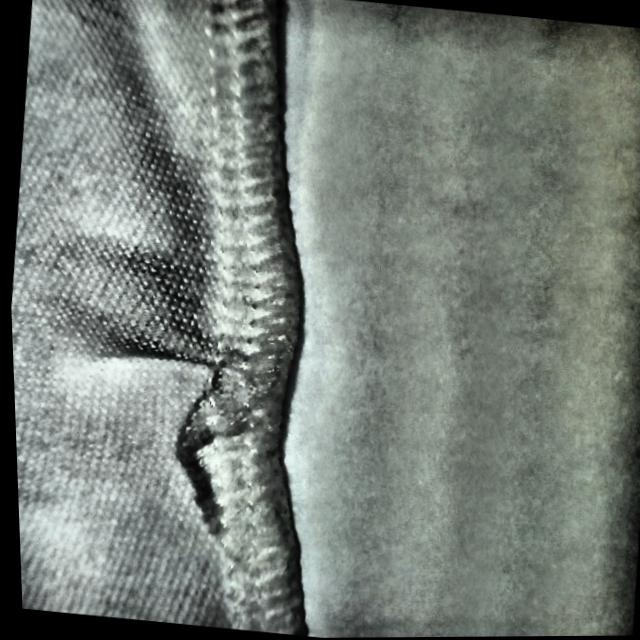seam: (86, 300, 308, 534)
